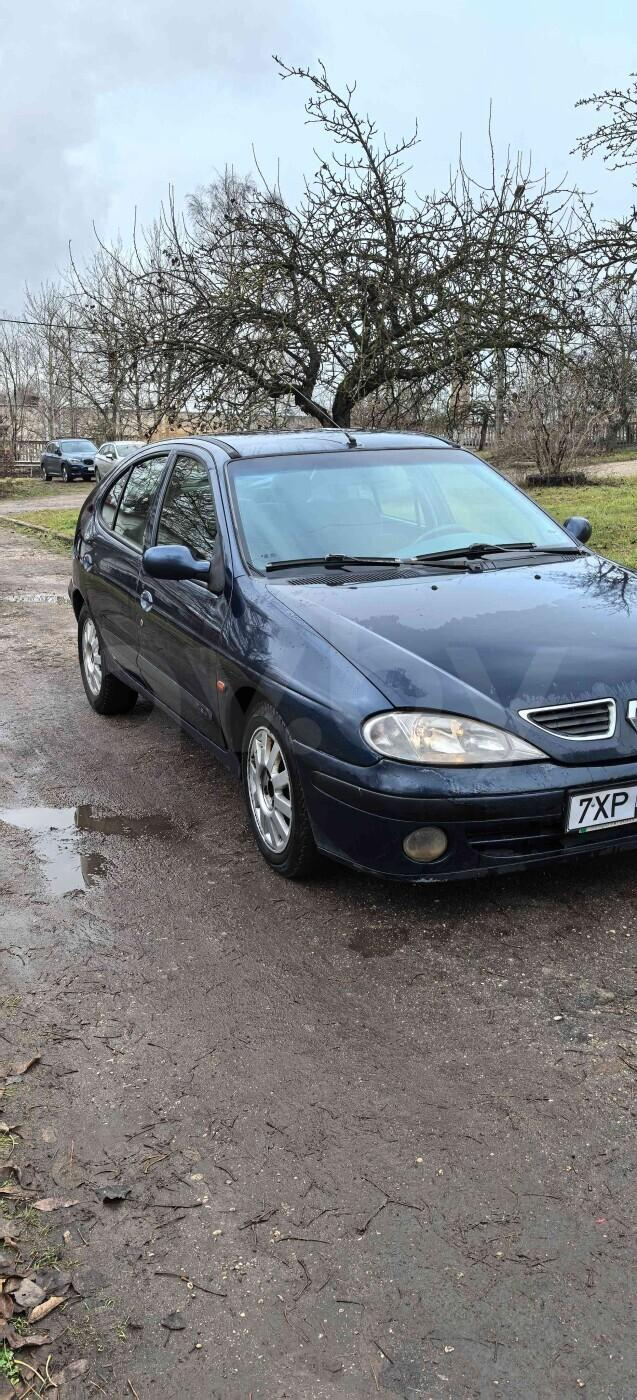Megane_1999-2003: (74, 426, 637, 946)
